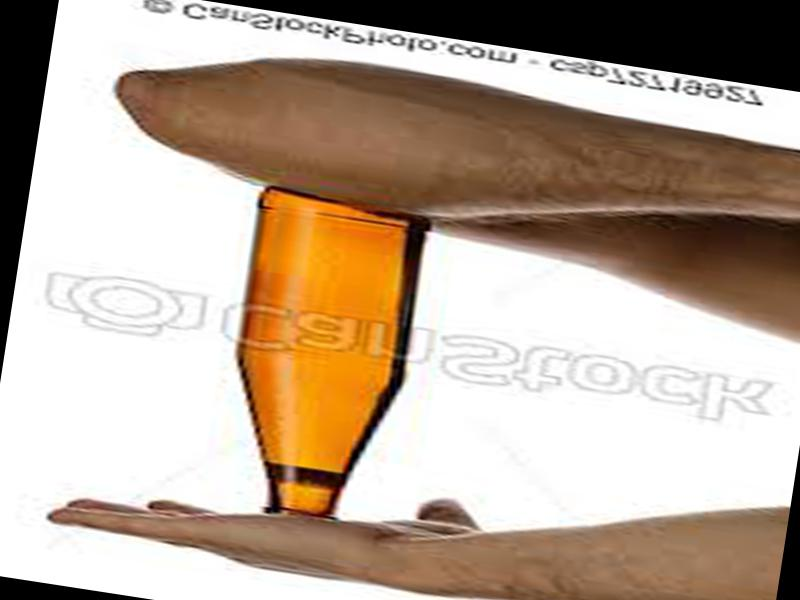Beer: (207, 189, 437, 536)
